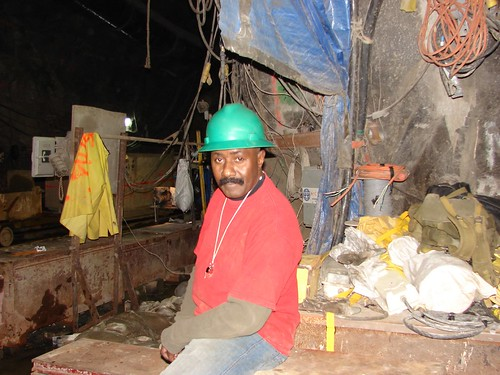person hardhat: (169, 104, 317, 375)
